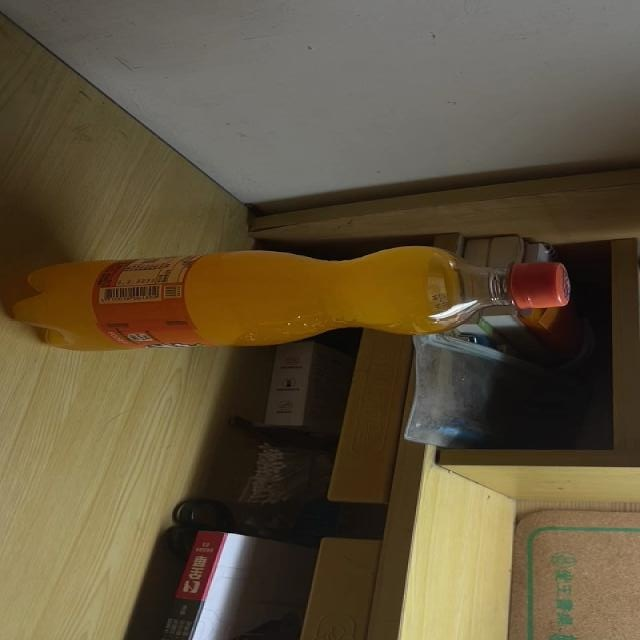Fanta: (13, 246, 571, 353)
